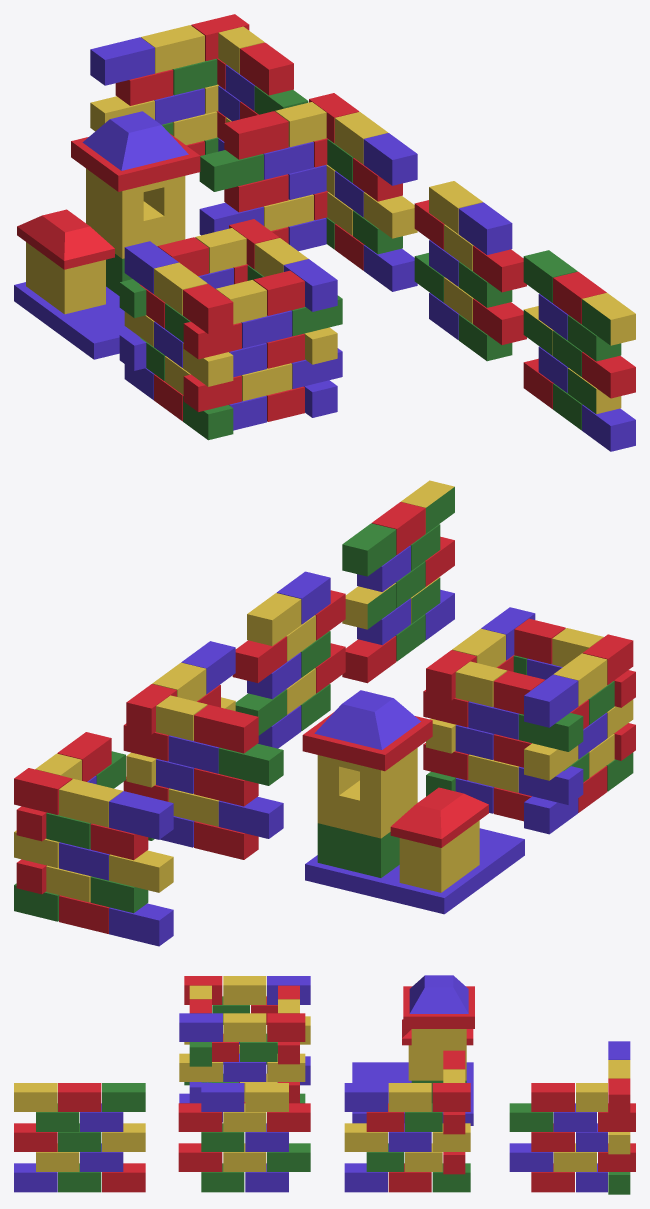
Rendered from TilemapLego.fbx.
3 renders of one model, top to bottom at view 1: azimuth 30°, elevation 25°; view 2: azimuth 150°, elevation 25°; view 3: azimuth 270°, elevation 25°, orthographic. The views are drawn at different scales.
Visible parts, largest first — view 1: Cubo, EsquinaA, Casita, EsquinaB, ParedA, ParedB; view 2: Cubo, Casita, EsquinaB, EsquinaA, ParedA, ParedB; view 3: Cubo, EsquinaA, ParedA, EsquinaB, ParedB, Casita.
Boxes of the visible parts, x1,y1,x2,y2 form: Cubo: [119, 219, 342, 440]; EsquinaA: [199, 93, 417, 291]; Casita: [14, 111, 200, 359]; EsquinaB: [90, 14, 308, 155]; ParedA: [523, 250, 635, 451]; ParedB: [414, 181, 526, 361]; Cubo: [423, 607, 635, 834]; Casita: [302, 690, 524, 914]; EsquinaB: [14, 732, 173, 946]; EsquinaA: [123, 641, 283, 859]; ParedA: [342, 480, 454, 683]; ParedB: [232, 571, 345, 748]; Cubo: [179, 976, 310, 1122]; EsquinaA: [344, 1050, 470, 1192]; ParedA: [14, 1083, 145, 1192]; EsquinaB: [509, 1041, 635, 1194]; ParedB: [178, 1083, 310, 1192]; Casita: [352, 975, 474, 1125].
Bounding box in the file's own units: 529 × 260 × 1129.
